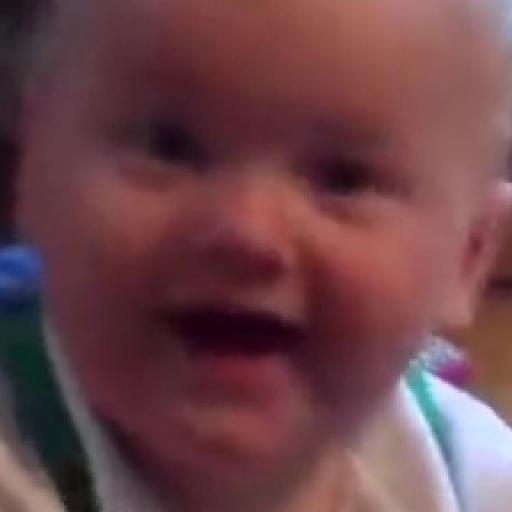Autism: (10, 8, 512, 471)
